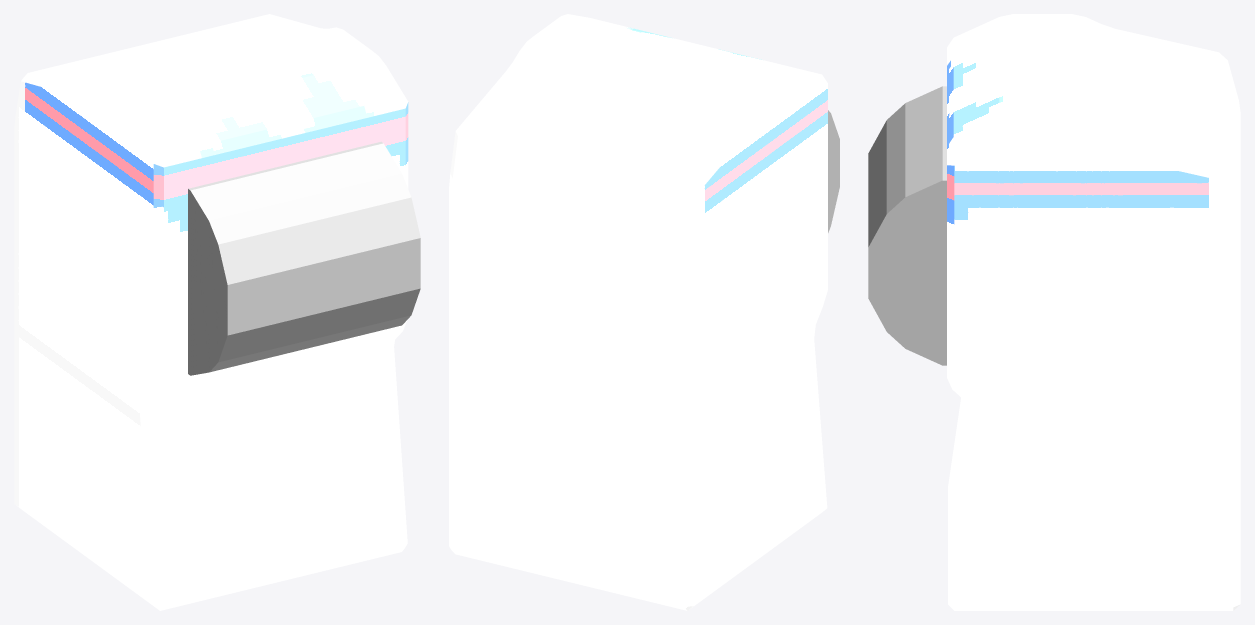
Rendered from GachaMachine.glb.
The picture shows the model from 3 angles, left to right: view 1: azimuth 30°, elevation 25°; view 2: azimuth 150°, elevation 25°; view 3: azimuth 270°, elevation 25°; orthographic projection. The views are drawn at different scales.
Parts seen in each view (by area): view 1: Cube, Cube.001; view 2: Cube, Cube.001; view 3: Cube, Cube.001.
Part boxes in pixels (bbox=[...]): Cube: bbox=[14, 14, 408, 610]; Cube.001: bbox=[188, 141, 420, 375]; Cube: bbox=[449, 14, 827, 610]; Cube.001: bbox=[828, 110, 839, 232]; Cube: bbox=[947, 14, 1240, 610]; Cube.001: bbox=[868, 86, 946, 365].
Size of the model in its own units: 1.25 by 2.25 by 1.59.
